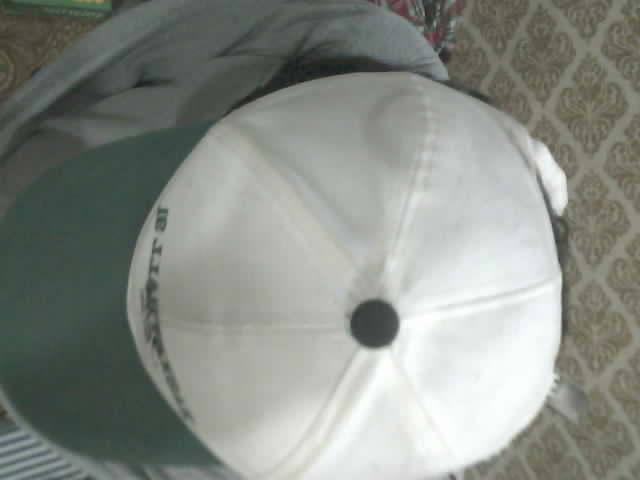cap: (0, 72, 568, 479)
